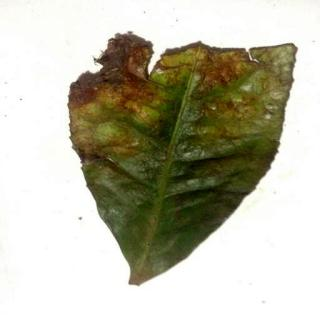Red Leaf Spot: (69, 33, 299, 288)
